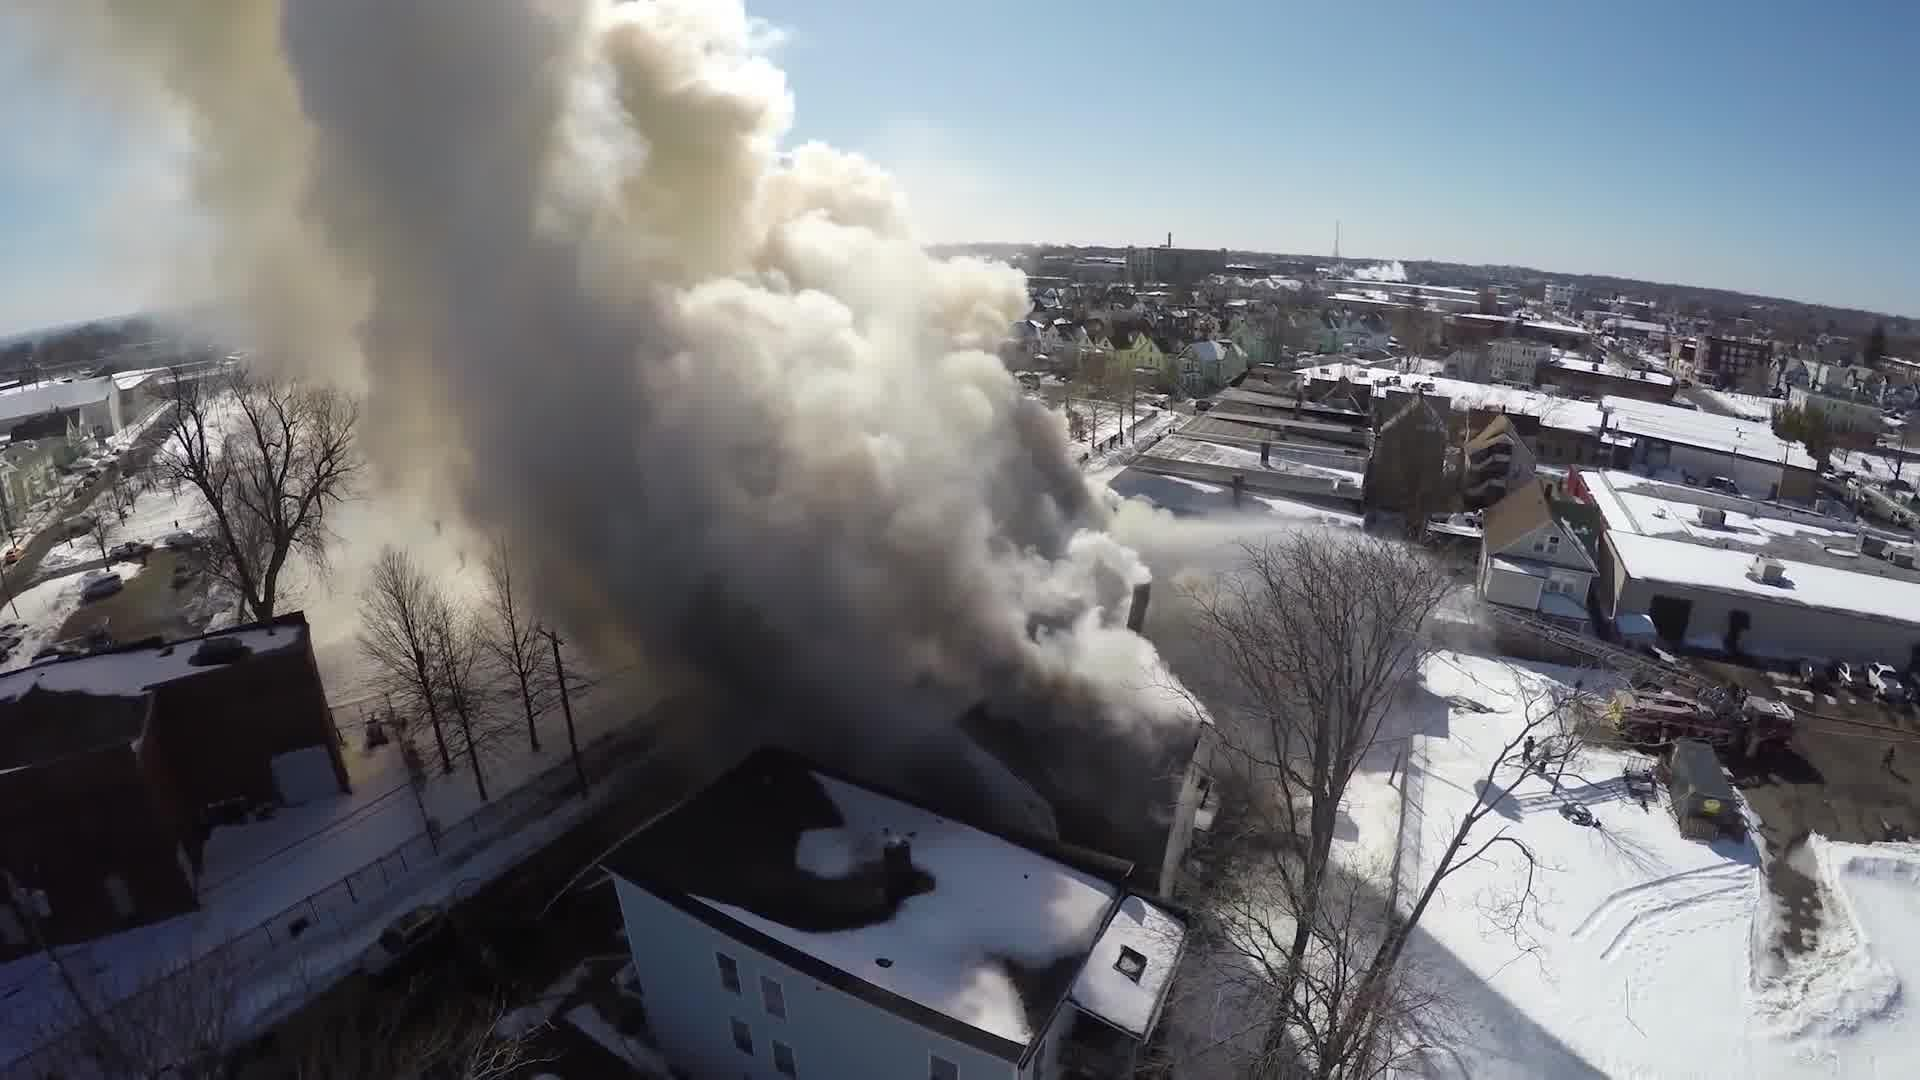smoke: (450, 41, 883, 690), (919, 434, 1080, 756)
